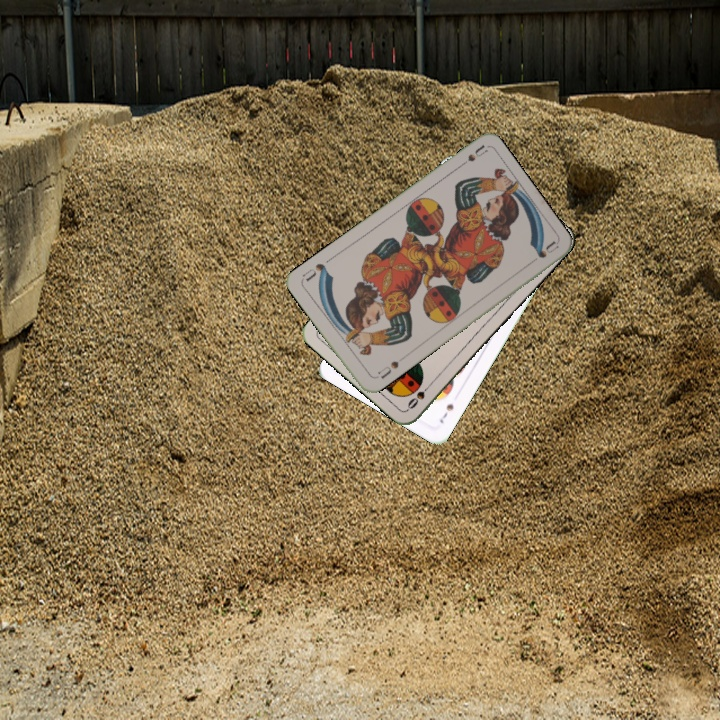S7: (435, 400, 456, 426)
SO: (403, 379, 435, 412)
SU: (452, 141, 489, 172), (371, 357, 401, 382)
